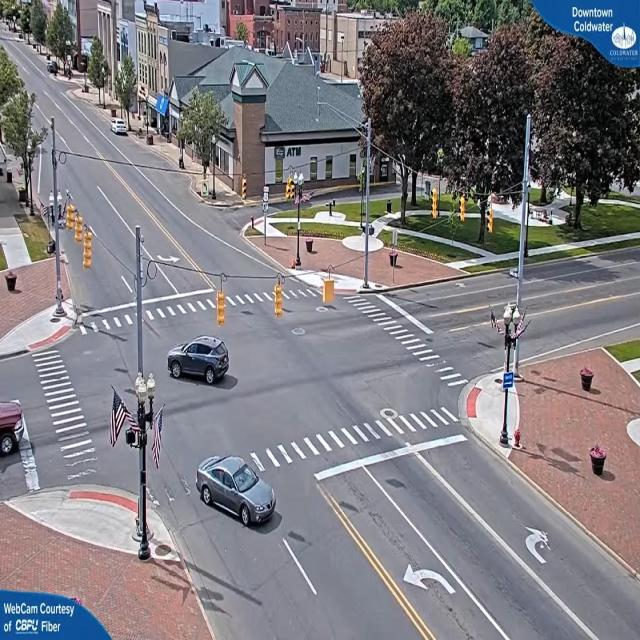car: (196, 455, 278, 528), (168, 338, 230, 386), (112, 121, 130, 138)
